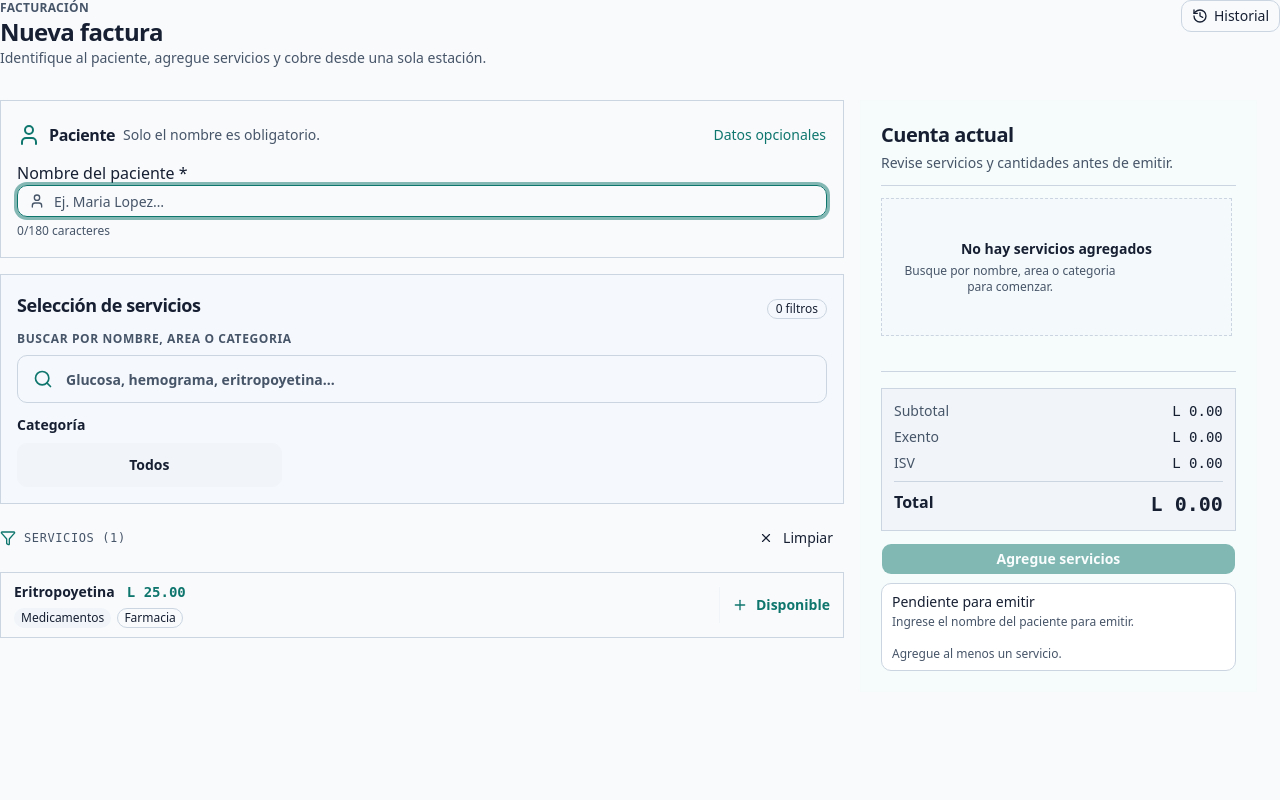
it: NewInvoiceView critical flows › does not create duplicate invoices when the final confirmation is double-clicked
Type "Maria Lopez" into the field labelled "Nombre del paciente *" at x=422, y=201, box [17,185,827,217]
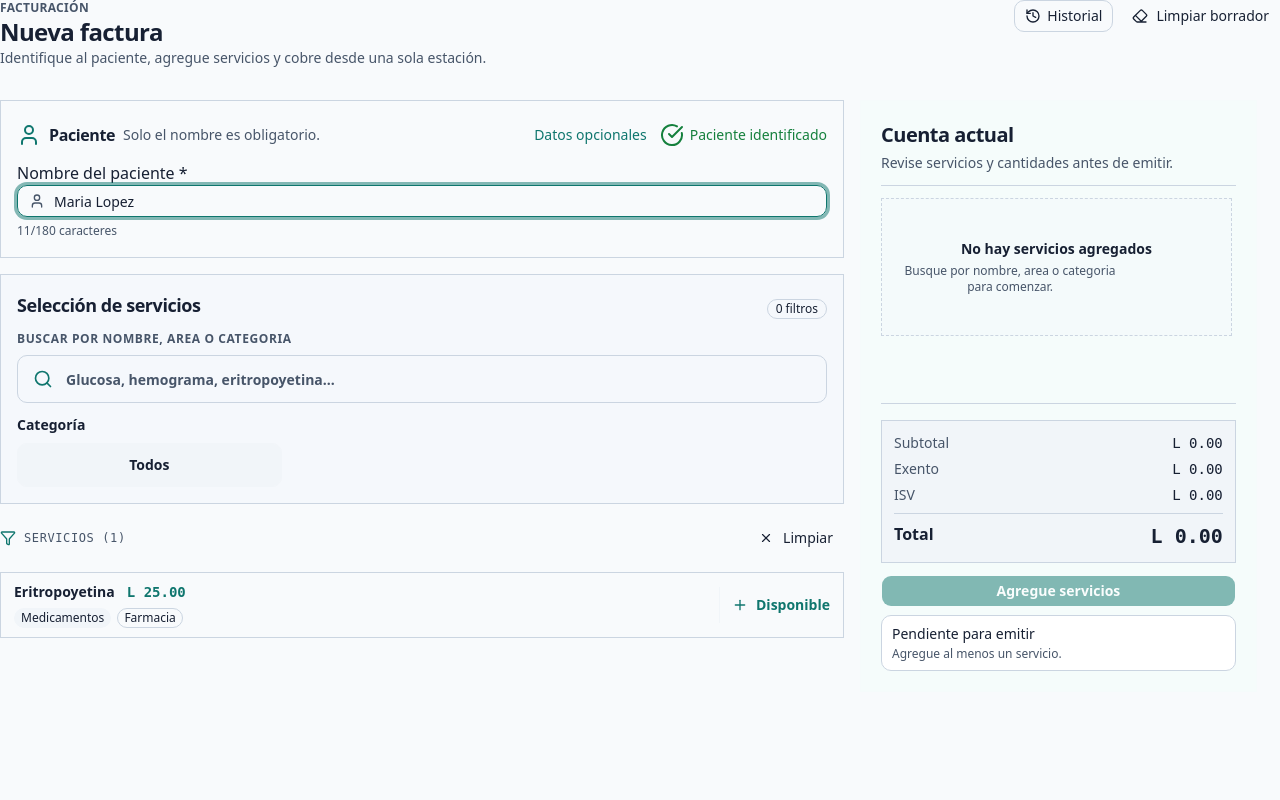
Type "eritro" into the field labelled "Buscar por nombre, area o categoria" at x=422, y=379, box [17,355,827,403]
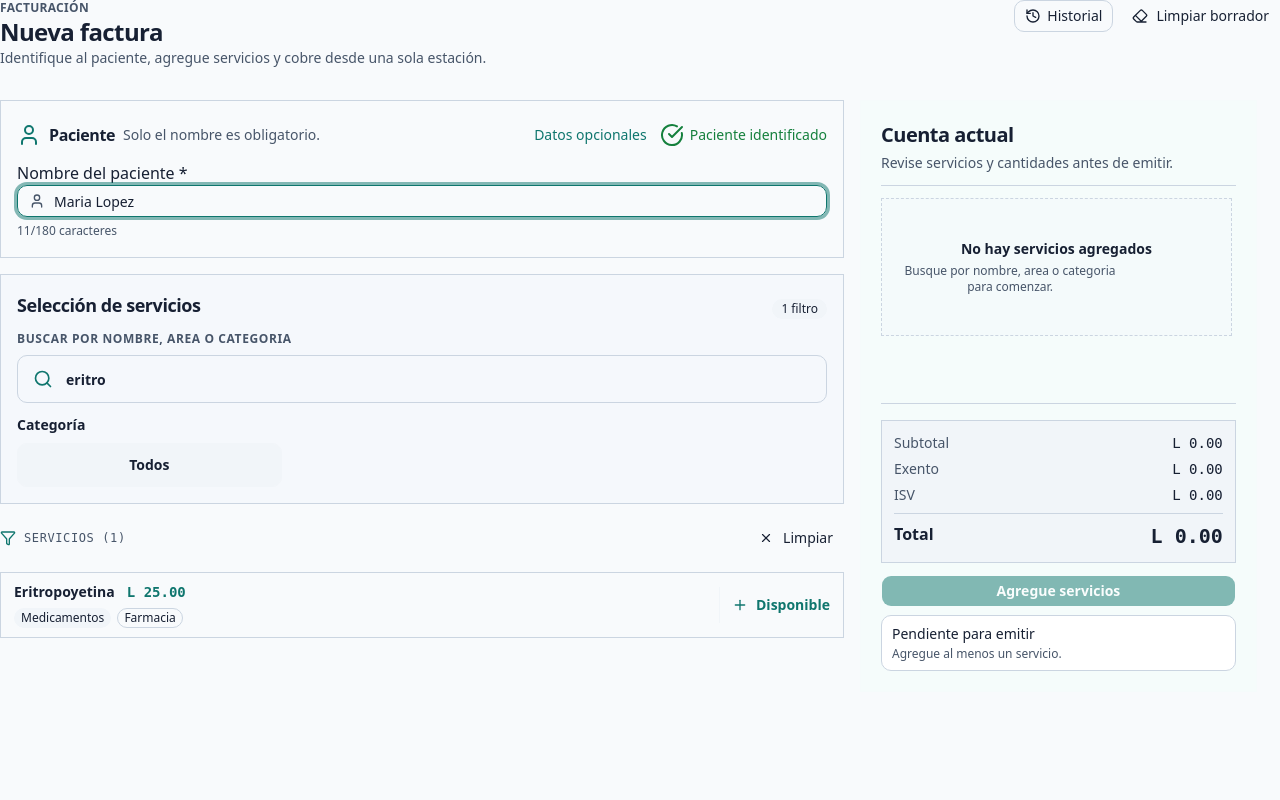
Expected: the text "Eritropoyetina" is shown, [14,583,115,601]
Click the button with aria-label "agregar eritropoyetina" at x=64, y=592, box [1,573,843,637]
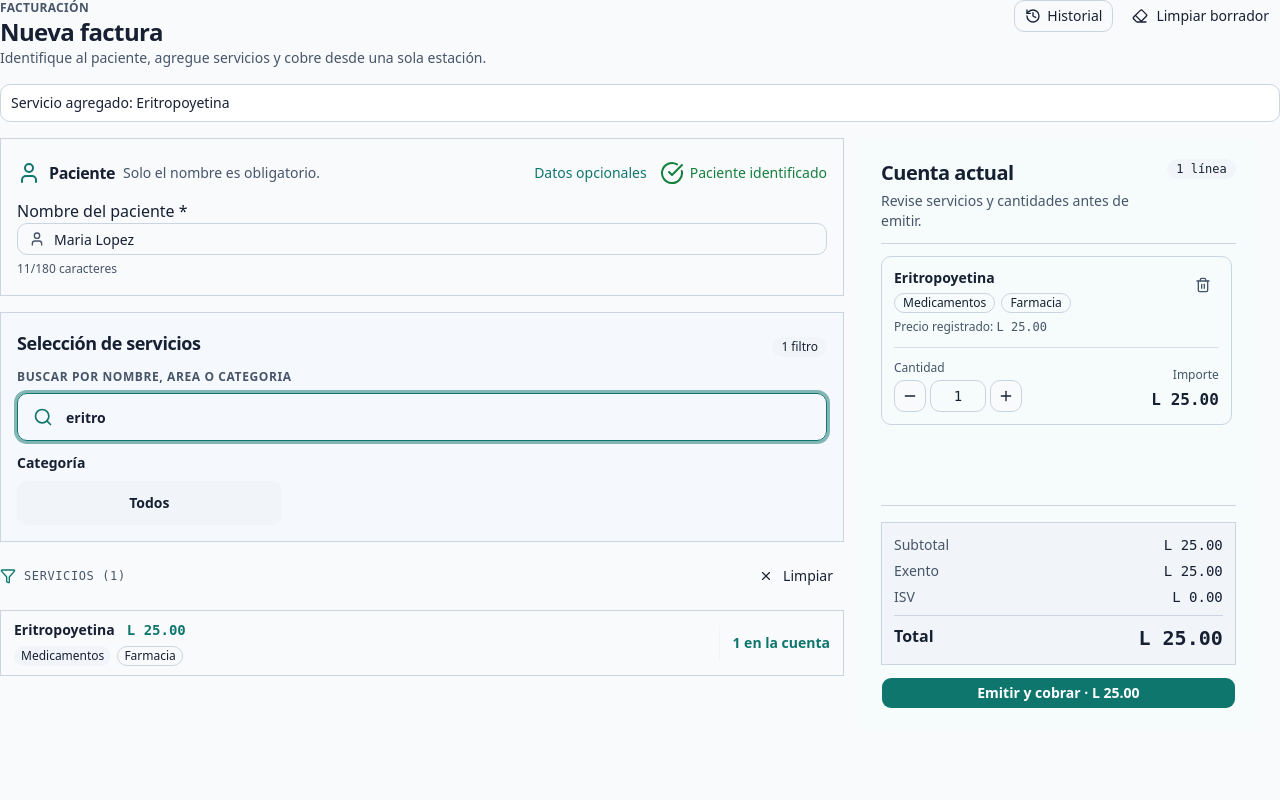
Click the button "Emitir y cobrar · L 25.00" at x=1058, y=693, box [881,677,1236,709]
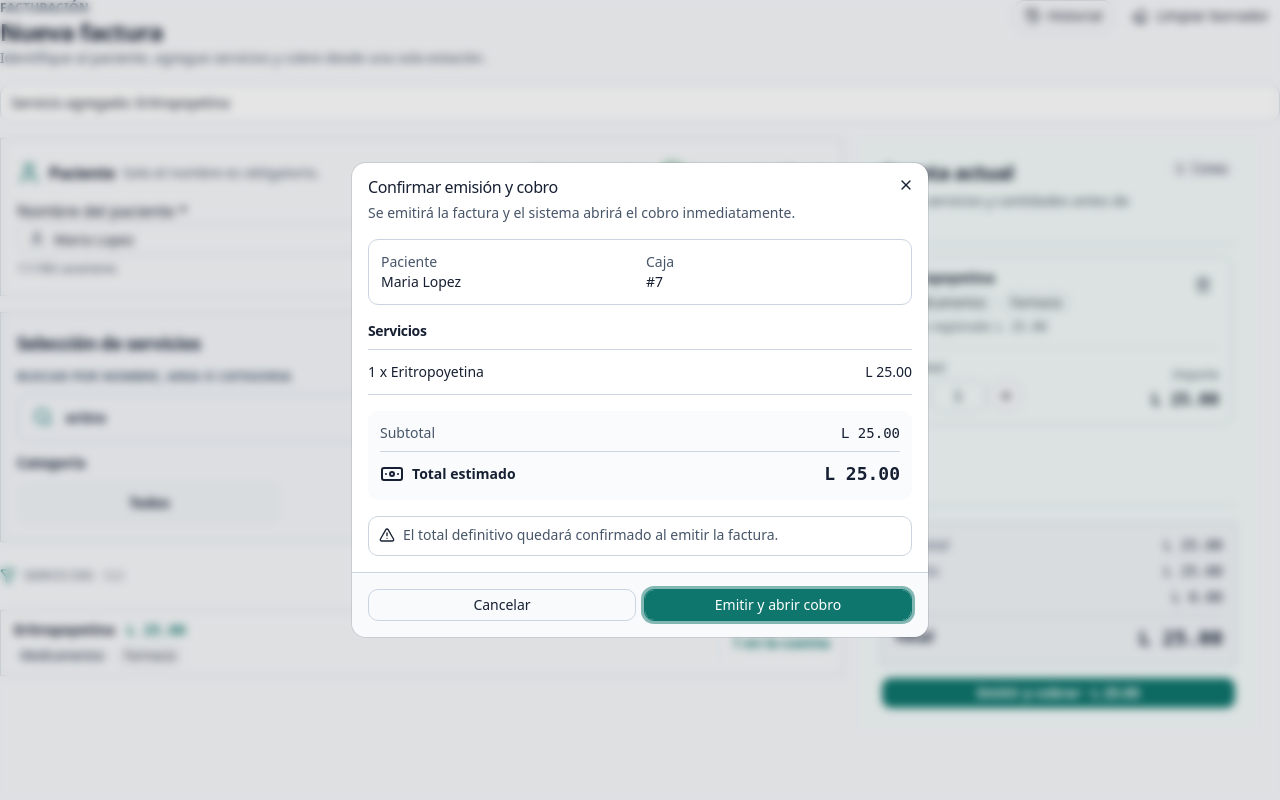
Click the button "Emitir y abrir cobro" at x=778, y=605, box [644,589,912,621]
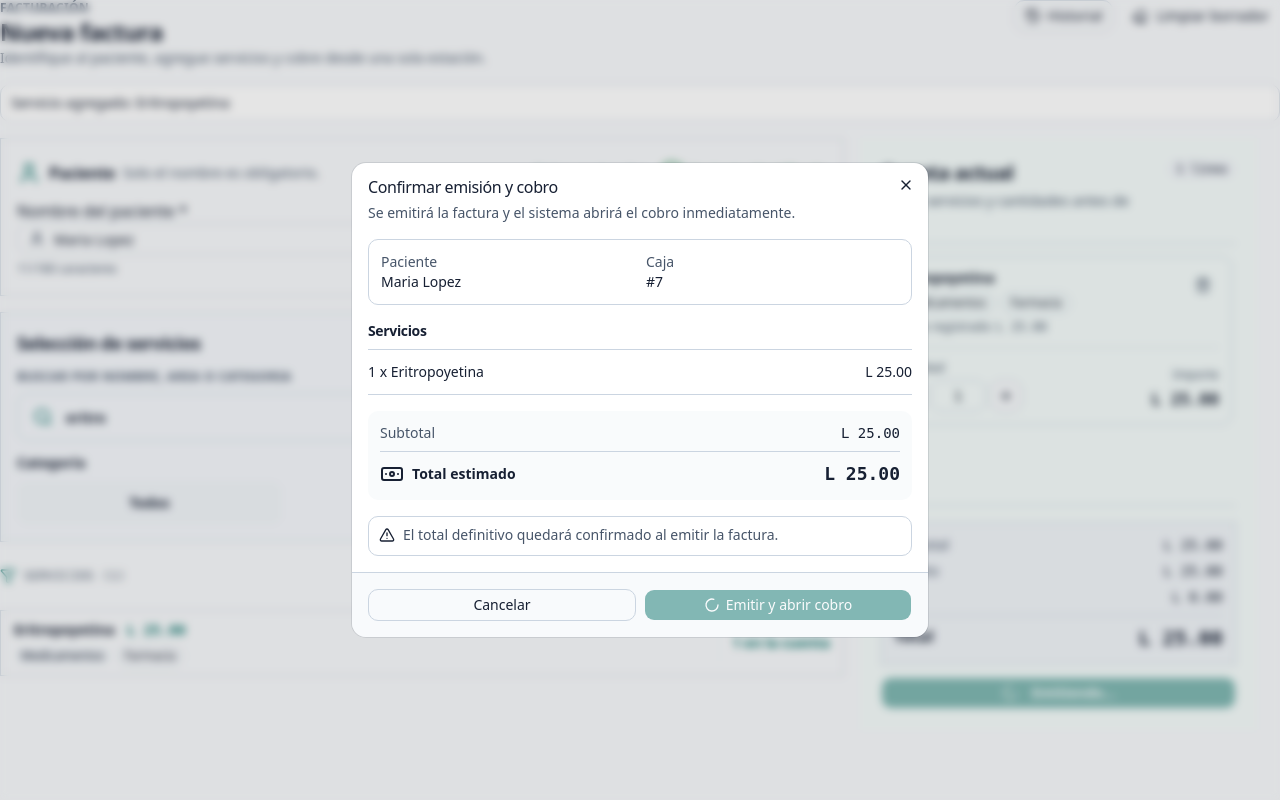
Click the button "Emitir y abrir cobro" at x=778, y=605, box [644,589,912,621]
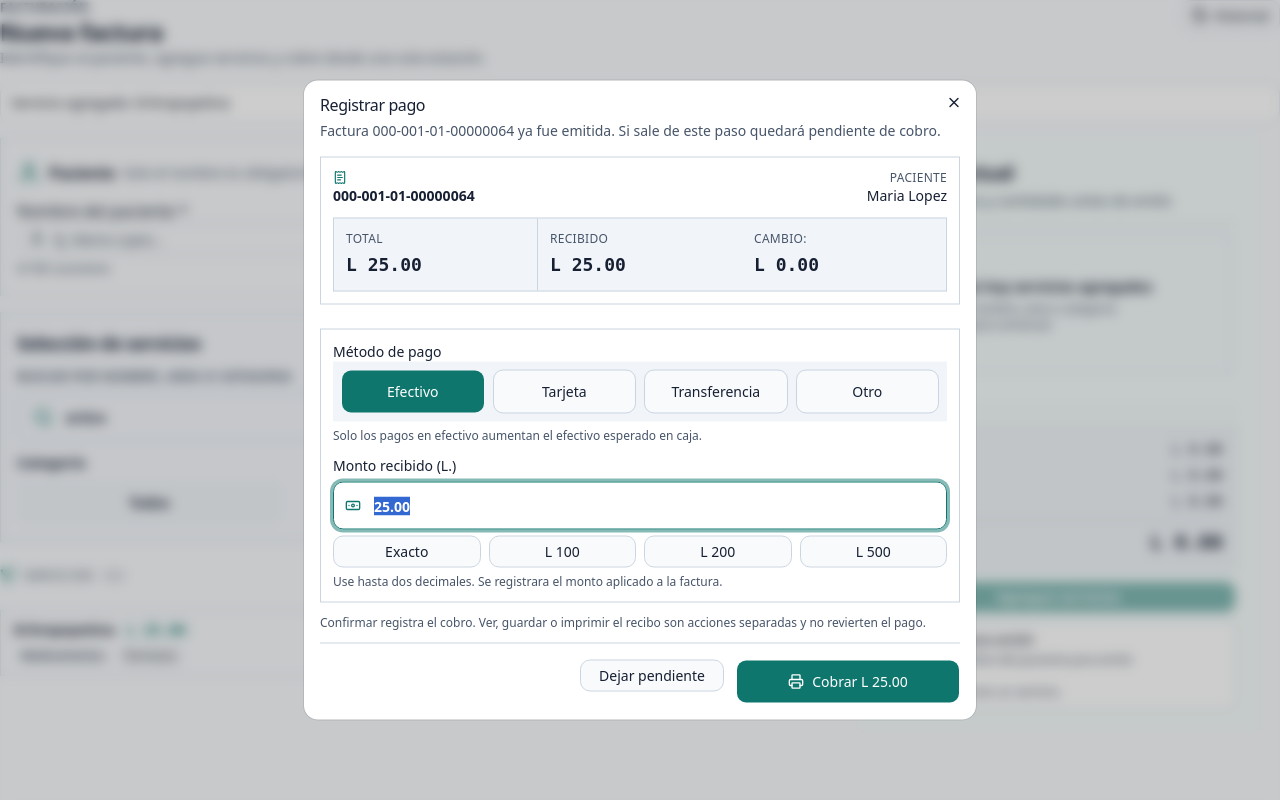
Expected: the dialog "Registrar pago" is shown, [304,80,976,720]
